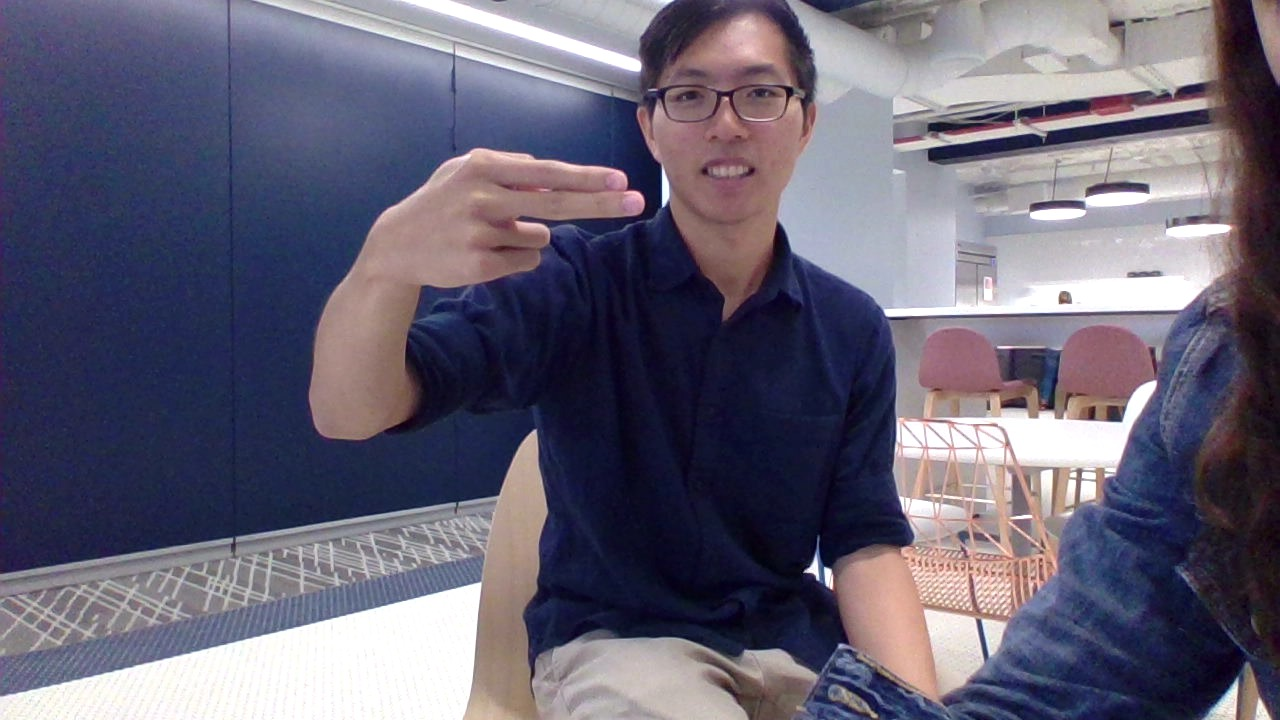h: (356, 138, 666, 299)
